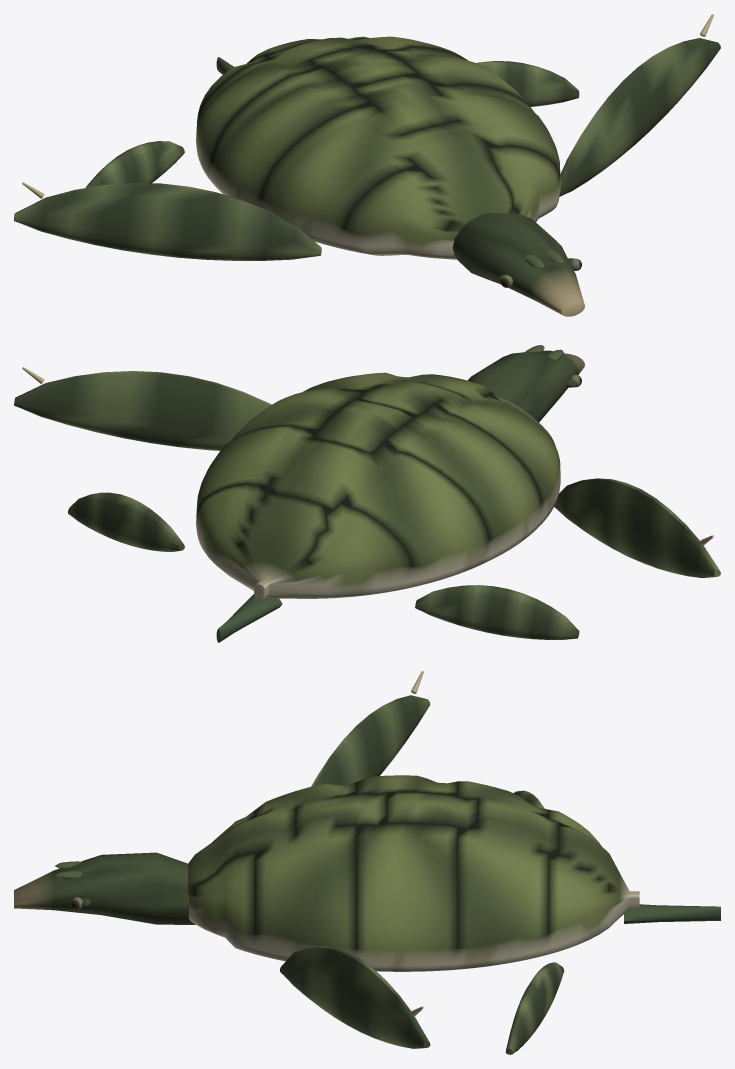
The model's file is turtle.glb.
3 views of the same model, one above another, from view 1: azimuth 30°, elevation 25°; view 2: azimuth 150°, elevation 25°; view 3: azimuth 270°, elevation 25° (orthographic).
Parts seen in each view (by area): view 1: Pelagic.turtle.Surface; view 2: Pelagic.turtle.Surface; view 3: Pelagic.turtle.Surface.
Part boxes in pixels (left/top/right/bottom): Pelagic.turtle.Surface: left=14, top=14, right=720, bottom=316; Pelagic.turtle.Surface: left=14, top=345, right=720, bottom=642; Pelagic.turtle.Surface: left=14, top=671, right=720, bottom=1054.
Bounding box in the file's own units: 2.05 × 0.3728 × 1.78.
